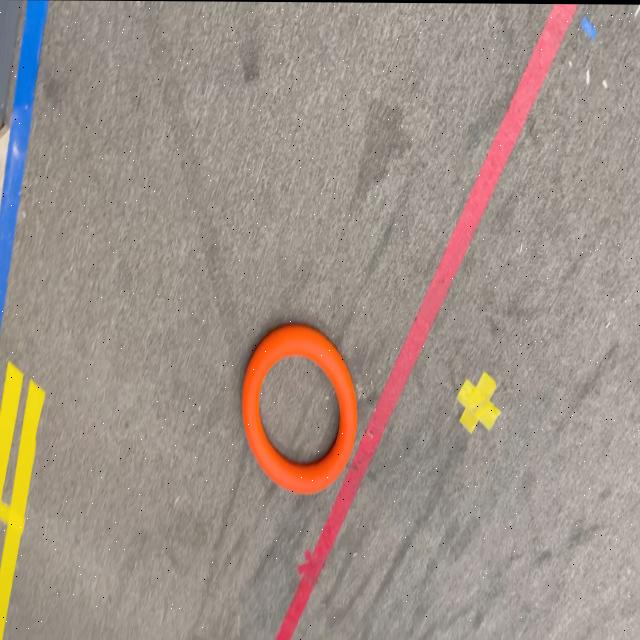note: (244, 322, 358, 494)
